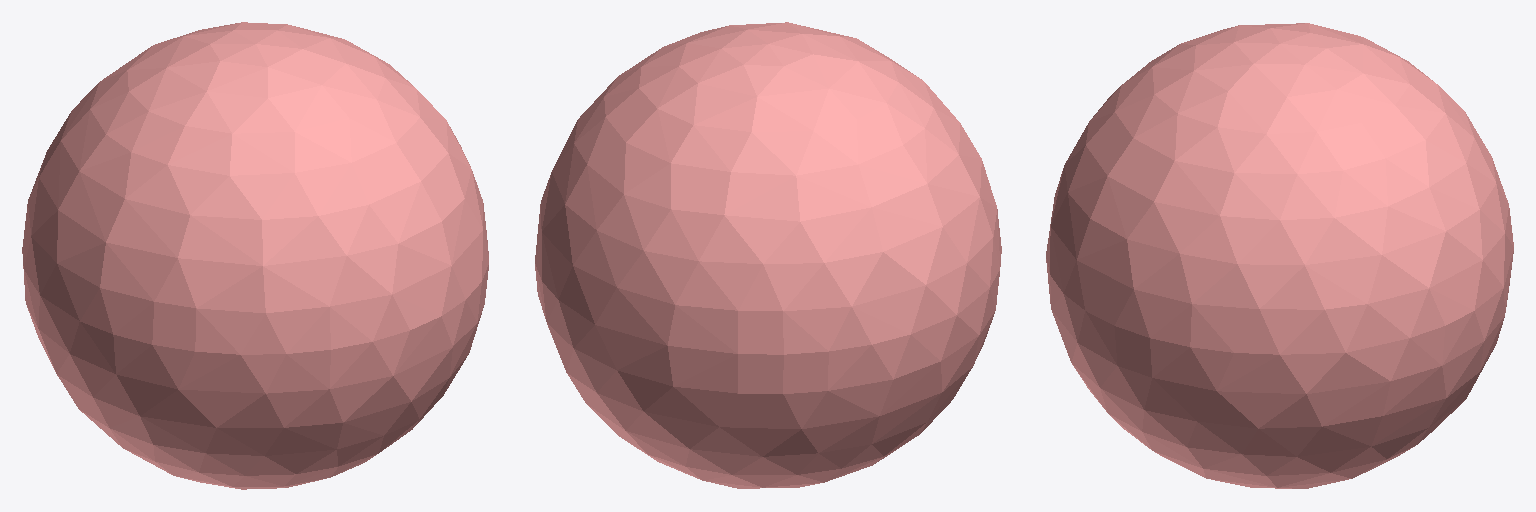
Rendered from Marble.obj.
The picture shows the model from 3 angles: view 1: azimuth 30°, elevation 25°; view 2: azimuth 150°, elevation 25°; view 3: azimuth 270°, elevation 25°; orthographic projection.
Visible parts, largest first — view 1: Sphere; view 2: Sphere; view 3: Sphere.
Boxes of the visible parts, x1,y1,x2,y2 form: Sphere: [22, 22, 488, 489]; Sphere: [535, 22, 1001, 488]; Sphere: [1046, 23, 1513, 488].
Bounding box in the file's own units: 0.799 × 0.8 × 0.8004.